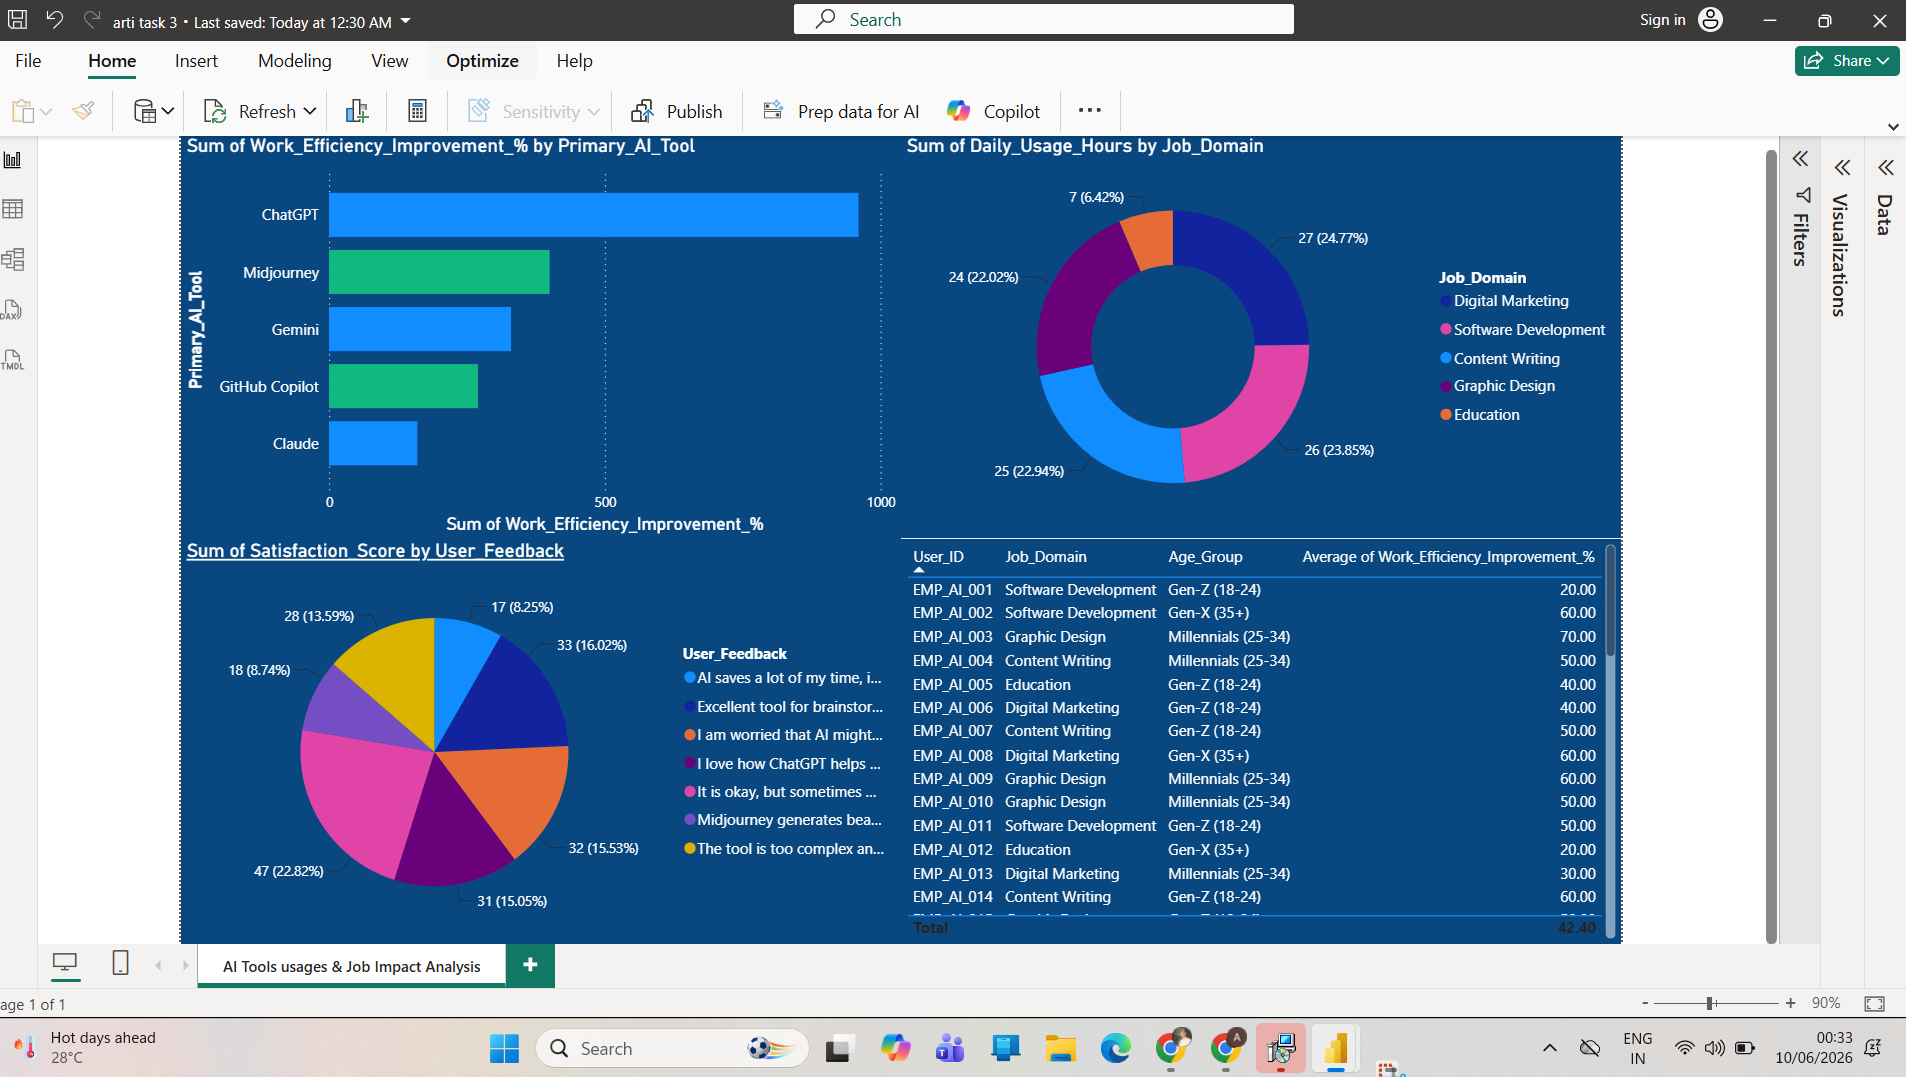

Layout of this report page (visuals, bound fields, positions):
{"tool":"powerbi","page":{"name":"AI Tools  usages & Job Impact Analysis","canvas":[1280,720],"ordinal":0},"visuals":[{"type":"clusteredBarChart","fields":{"Category":["AI_Tools_Survey_Data.Primary_AI_Tool"],"Y":["Sum(AI_Tools_Survey_Data.Work_Efficiency_Improvement_%)"]},"box":[0,0,640,360],"z":0},{"type":"textbox","box":[0,384,498,336],"z":1000},{"type":"donutChart","fields":{"Y":["Sum(AI_Tools_Survey_Data.Daily_Usage_Hours)"],"Category":["AI_Tools_Survey_Data.Job_Domain"]},"box":[639.5,0,640.8,359.5],"z":2000},{"type":"pieChart","fields":{"Series":["AI_Tools_Survey_Data.User_Feedback"],"Y":["Sum(AI_Tools_Survey_Data.Satisfaction_Score)"]},"box":[0,360,640,360],"z":3000},{"type":"tableEx","fields":{"Values":["AI_Tools_Survey_Data.User_ID","AI_Tools_Survey_Data.Job_Domain","AI_Tools_Survey_Data.Age_Group","Avg(AI_Tools_Survey_Data.Work_Efficiency_Improvement_%)"]},"box":[640,360,640,360],"z":4000}]}

Visuals, with their boxes on the page's 1280x720 design canvas (x1, y1, x2, y2). These are canvas units, not pixel positions in the 1906x1077 screenshot, which may show the page scaled, cropped or inside an application window:
clusteredBarChart - AI_Tools_Survey_Data.Primary_AI_Tool x Sum(AI_Tools_Survey_Data.Work_Efficiency_Improvement_%): box=[0, 0, 640, 360]
textbox: box=[0, 384, 498, 720]
donutChart - Sum(AI_Tools_Survey_Data.Daily_Usage_Hours) x AI_Tools_Survey_Data.Job_Domain: box=[640, 0, 1280, 360]
pieChart - AI_Tools_Survey_Data.User_Feedback x Sum(AI_Tools_Survey_Data.Satisfaction_Score): box=[0, 360, 640, 720]
tableEx - AI_Tools_Survey_Data.User_ID x AI_Tools_Survey_Data.Job_Domain: box=[640, 360, 1280, 720]
